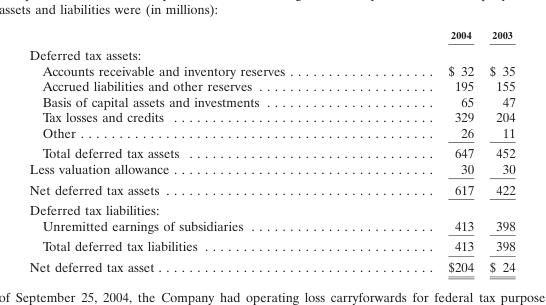table: (28, 28, 514, 274)
table column: (28, 28, 365, 274), (365, 28, 481, 274), (481, 28, 514, 274)
table column header: (28, 28, 514, 43)
table projected row header: (28, 43, 514, 62), (28, 199, 514, 217)
table row: (28, 178, 514, 199), (28, 235, 514, 256), (28, 43, 514, 62), (28, 124, 514, 142), (28, 142, 514, 160), (28, 160, 514, 178), (28, 199, 514, 217), (28, 217, 514, 235), (28, 256, 514, 274), (28, 77, 514, 93), (28, 108, 514, 124), (28, 28, 514, 43), (28, 62, 514, 77), (28, 93, 514, 108)
